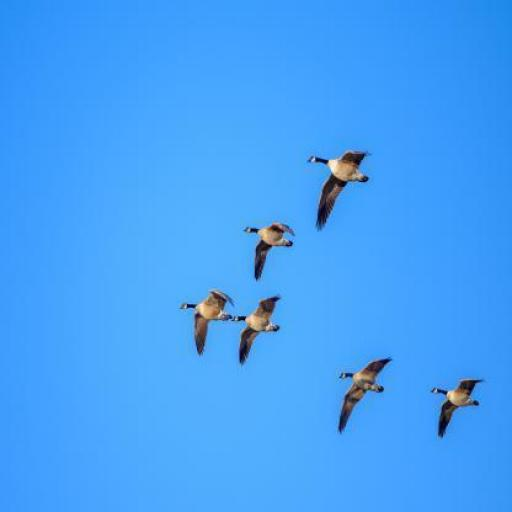bird: (306, 150, 372, 234), (338, 358, 394, 436), (179, 288, 235, 358), (233, 294, 283, 367), (430, 379, 484, 441), (245, 221, 297, 282)
